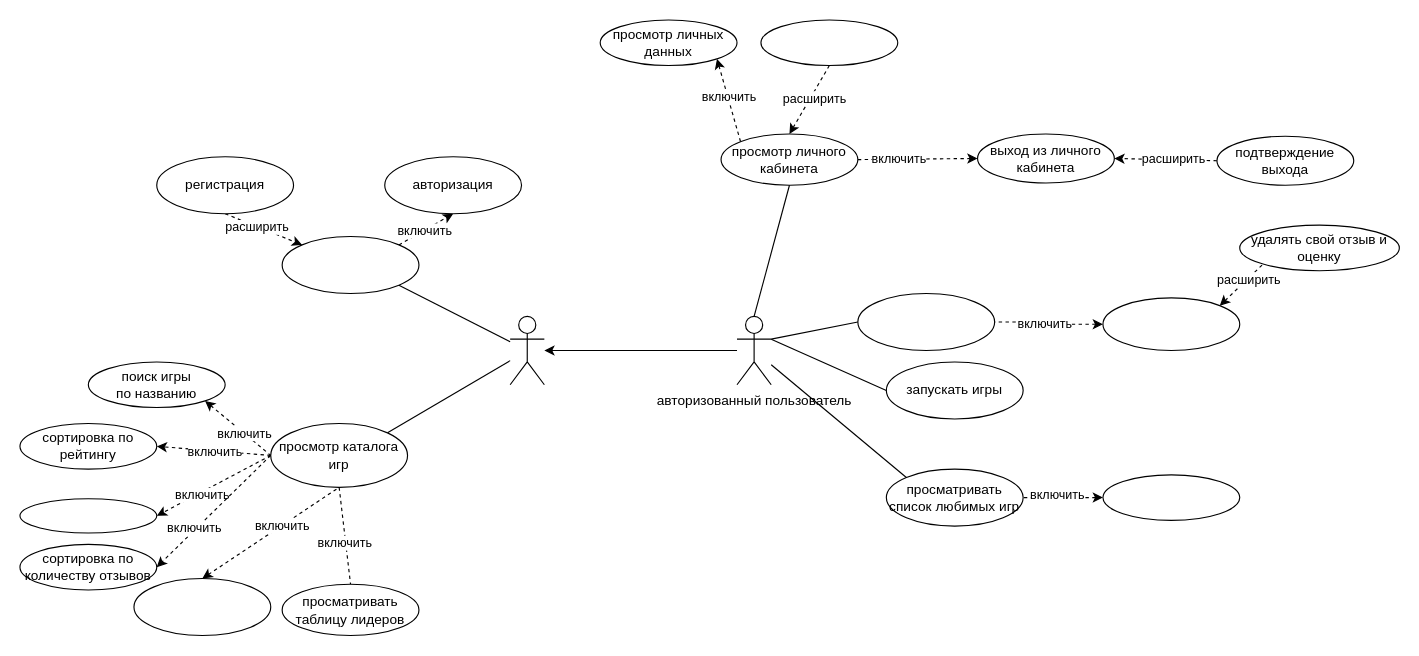
This 1419x656 diagram has some shape labels left out. The shapes that lost their labels are listed below. From the top down, each one's centre as x and y in pixels, then its label:
At point 829,42: "редактирование личных данных".
At point 350,264: "выполнение входа".
At point 926,321: "оставлять отзыв и оценку".
At point 1171,324: "редактировать свой отзыв и оценку".
At point 526,350: "Неавторизованный пользователь".
At point 88,515: "сортировка по жанру".
At point 1171,497: "редактировать список любимых игр".
At point 202,606: "просмотр информации о игре".
